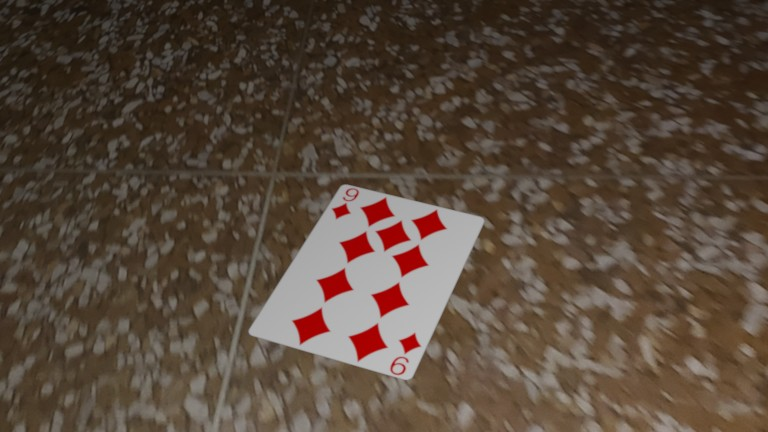9_of_diamonds: (379, 327, 430, 378), (323, 186, 368, 224)
